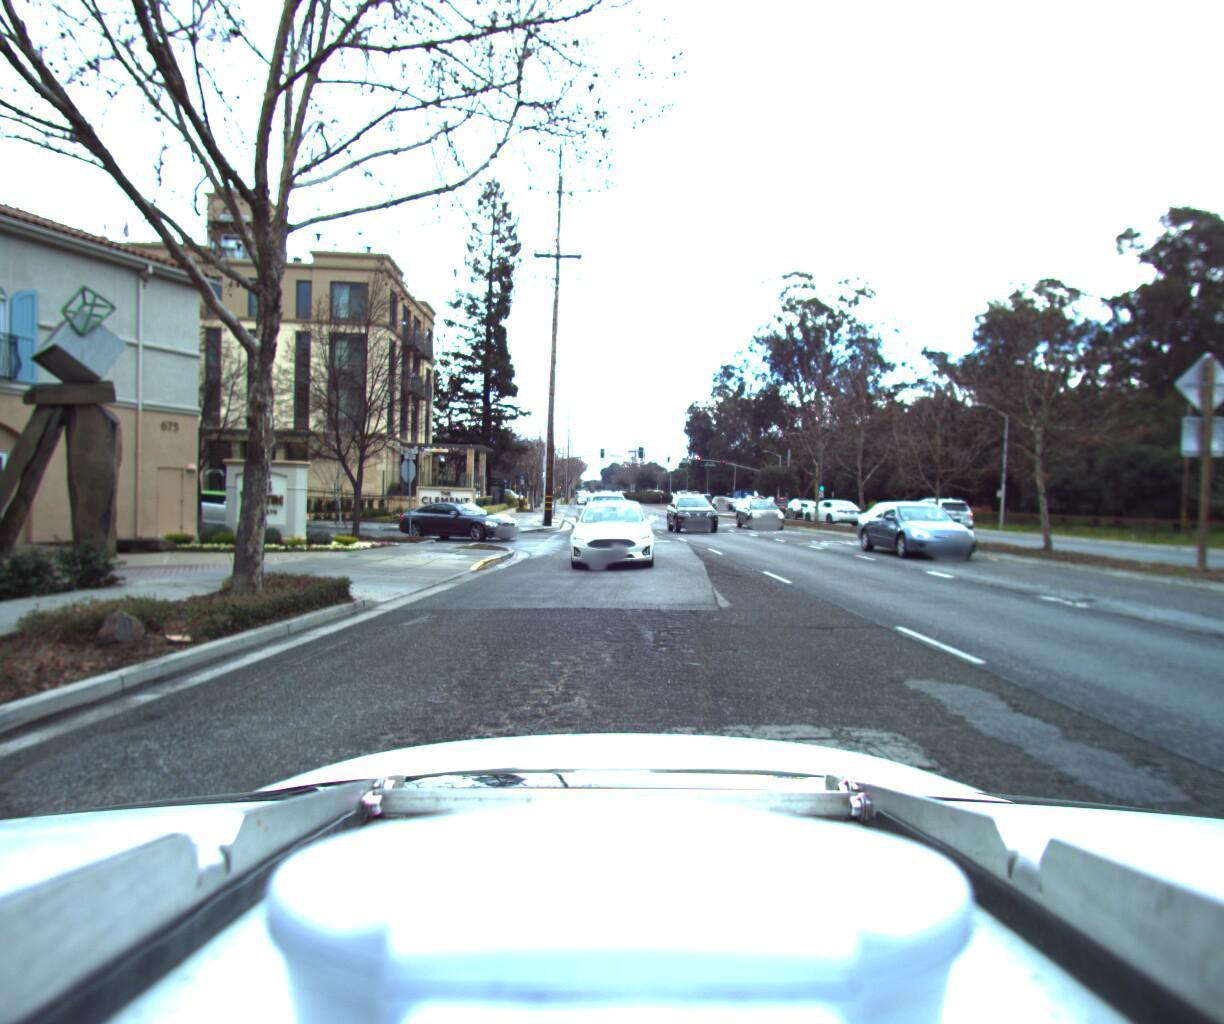car: (871, 487, 1025, 561), (556, 489, 652, 566), (387, 489, 529, 539), (175, 481, 280, 526), (889, 486, 976, 531), (667, 483, 724, 528), (735, 487, 797, 524), (797, 487, 868, 519), (782, 490, 822, 513), (717, 488, 740, 504)
